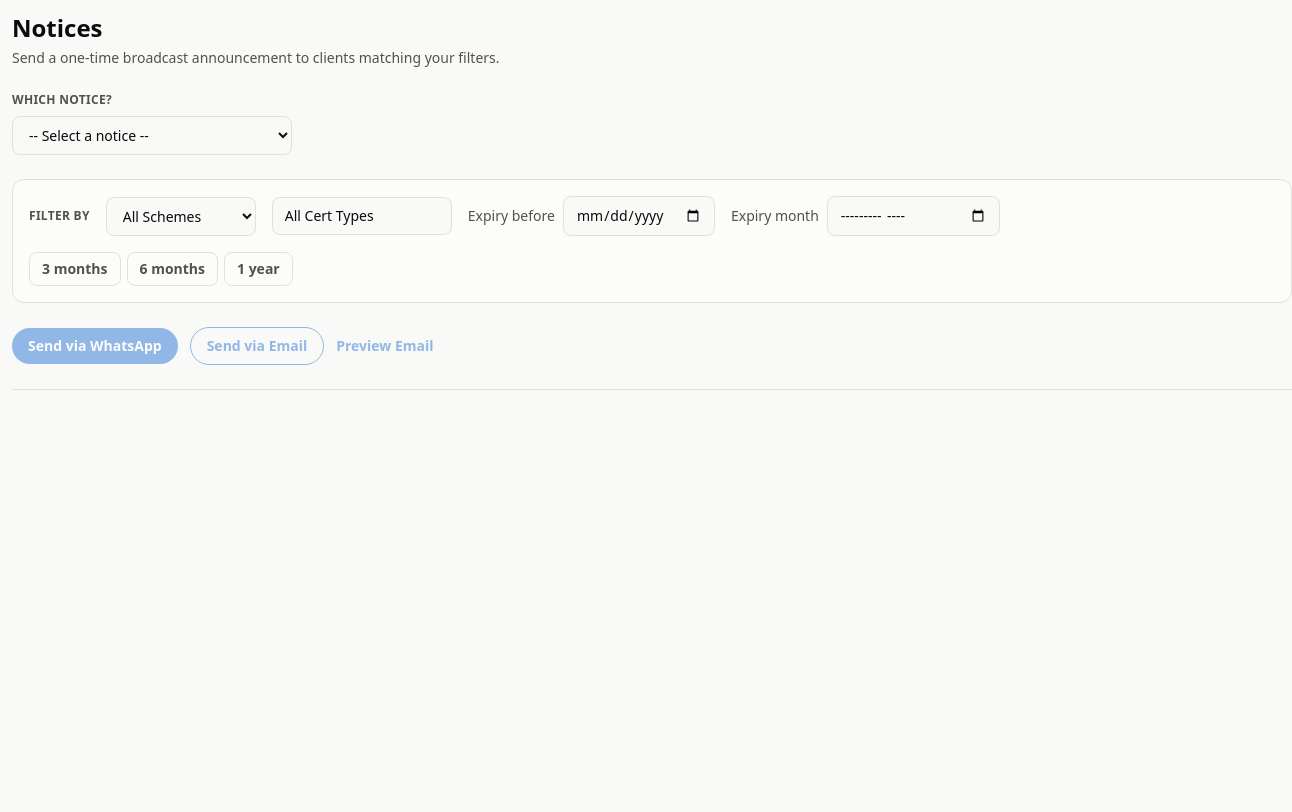
Test: NoticesView › renders the client list once loaded
Select "Transition Facilitation Order 2026" in the dropdown named "Which notice?" at (152,136), box [12,116,292,155]
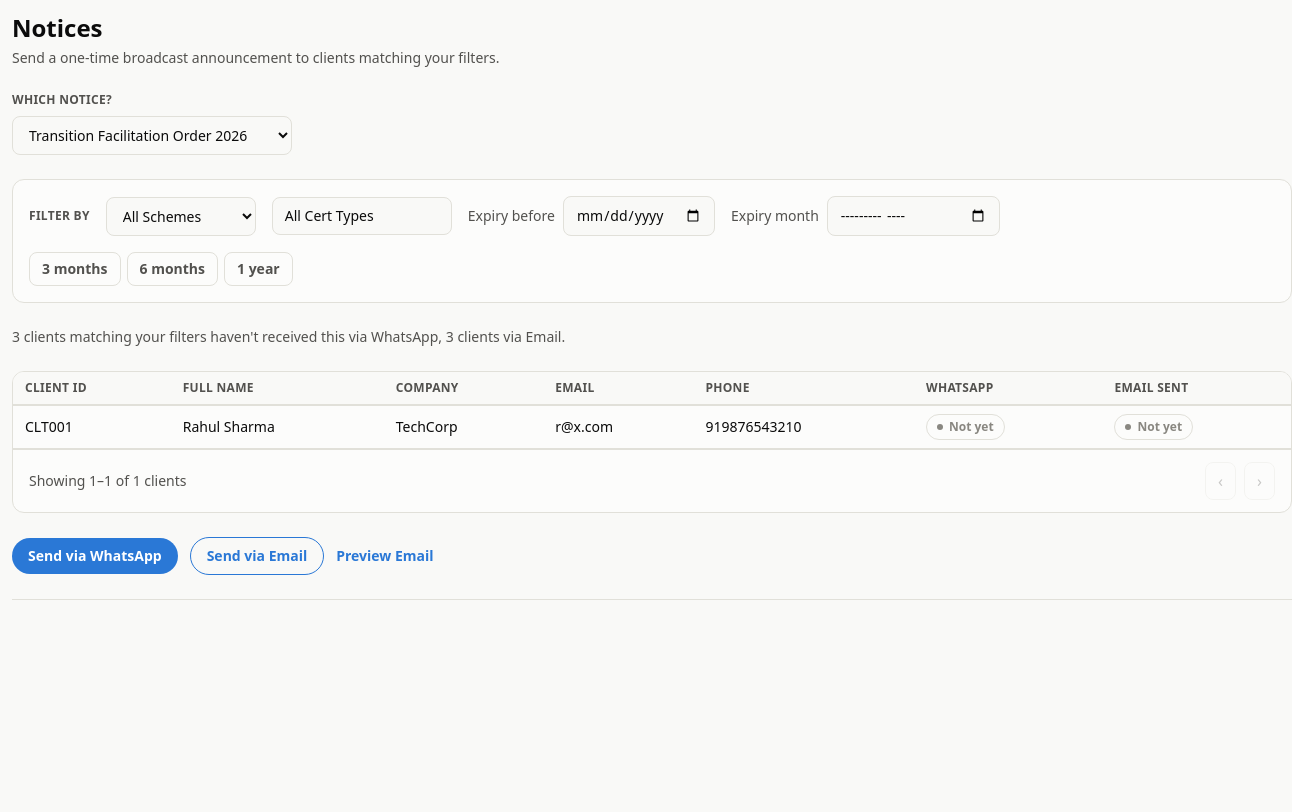
Now the text "Rahul Sharma" is shown, box [171,405,384,448]
